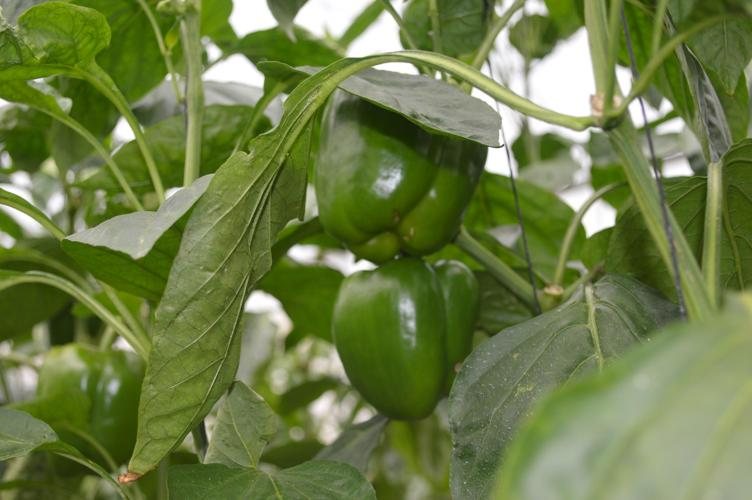BellPepper: (300, 75, 494, 259), (323, 262, 478, 444), (19, 348, 157, 485)
